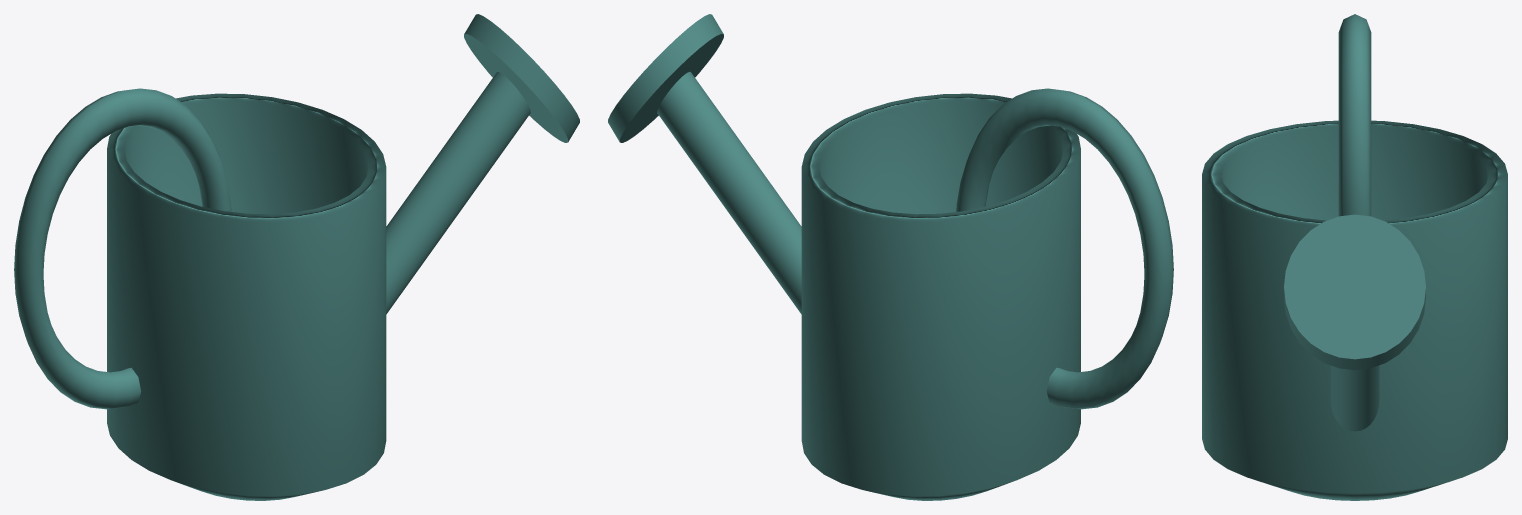
Rendered from wp-arrosoir.glb.
3 views of the same model, side by side, from view 1: azimuth 30°, elevation 25°; view 2: azimuth 150°, elevation 25°; view 3: azimuth 270°, elevation 25° (orthographic). The views are drawn at different scales.
Visible parts, largest first — view 1: wp-arrosoir; view 2: wp-arrosoir; view 3: wp-arrosoir.
Boxes of the visible parts, x1,y1,x2,y2 form: wp-arrosoir: (14, 14, 579, 500); wp-arrosoir: (608, 14, 1173, 500); wp-arrosoir: (1202, 14, 1507, 500).
Bounding box in the file's own units: 0.5 × 0.35 × 0.25.
